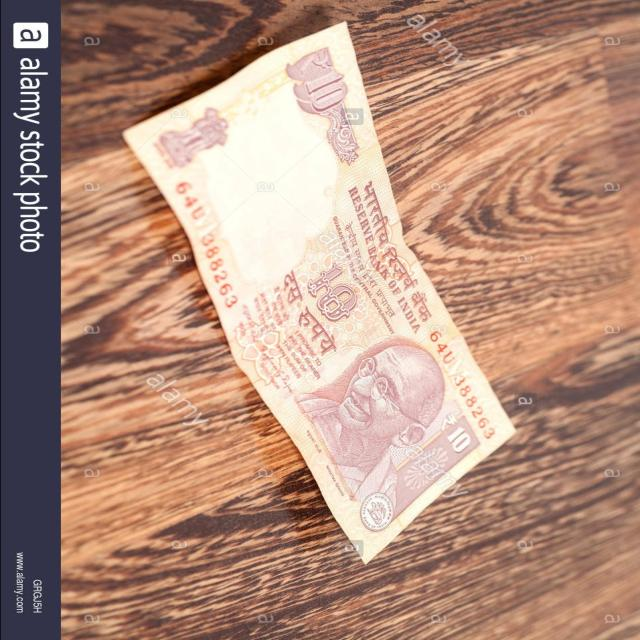10IndianRupees: (135, 19, 528, 542)
